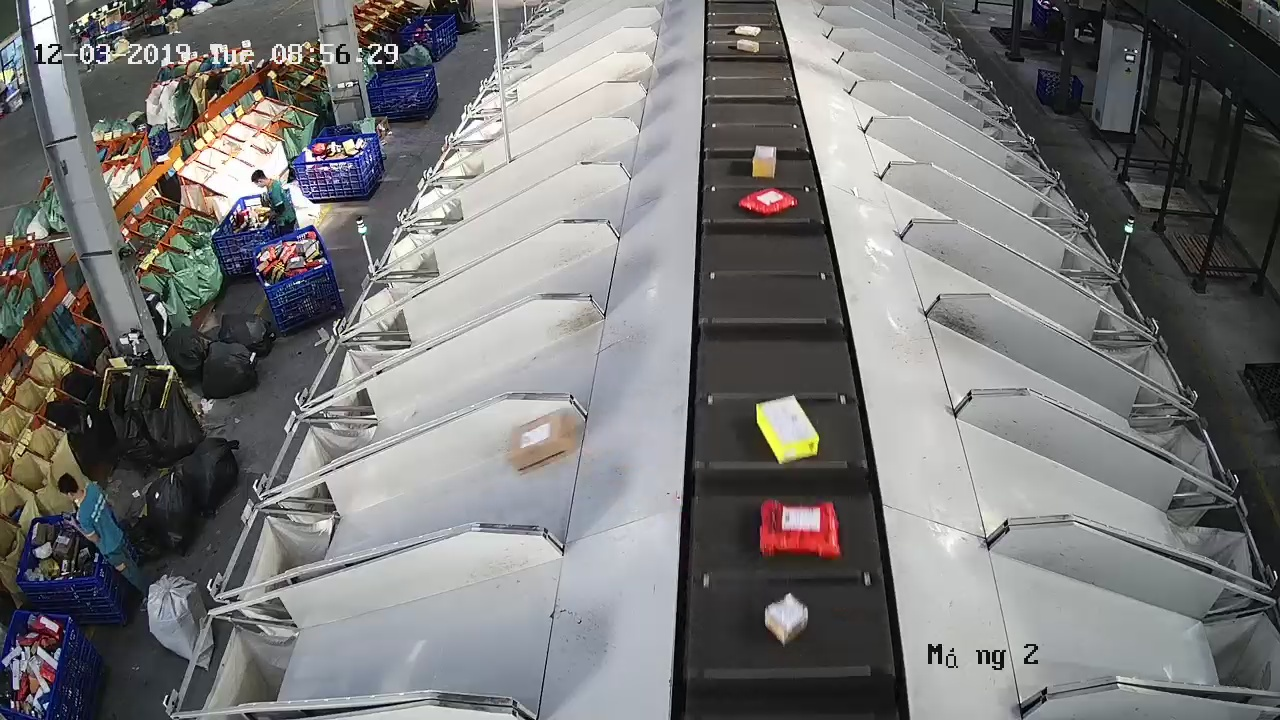parcel: (758, 498, 843, 560), (505, 407, 579, 475), (753, 393, 821, 466), (763, 591, 810, 648), (737, 186, 799, 218), (750, 143, 778, 180)
